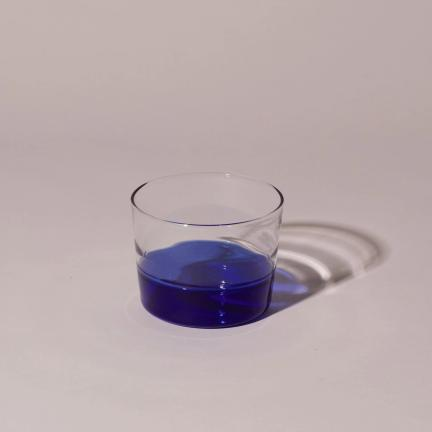container: (132, 172, 283, 328)
fluid: (140, 271, 272, 326)
fluid-surface: (139, 238, 272, 289)
